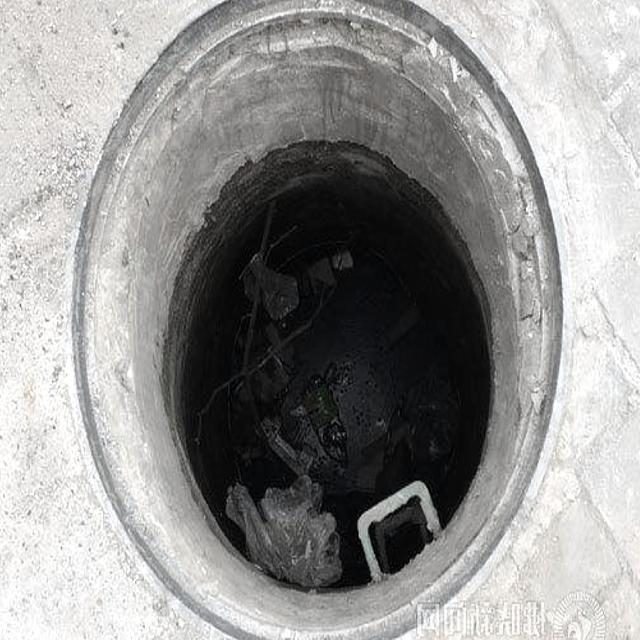lose: (60, 0, 573, 640)
